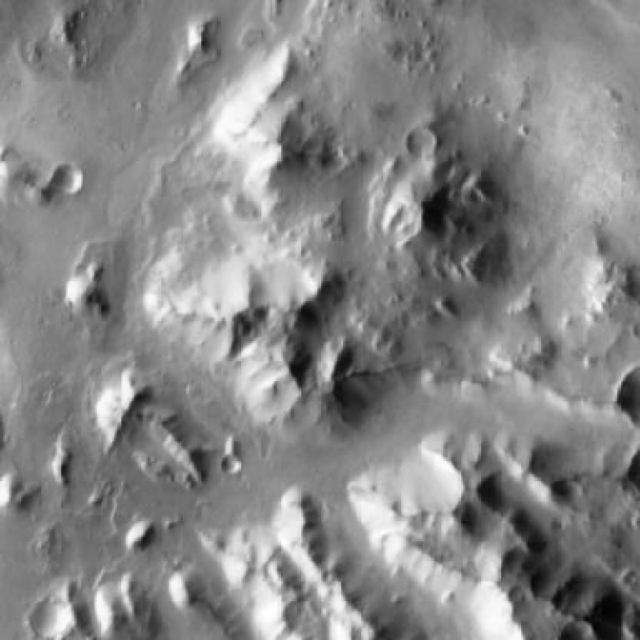crater: (409, 129, 440, 160), (51, 166, 80, 194), (219, 455, 238, 474)
